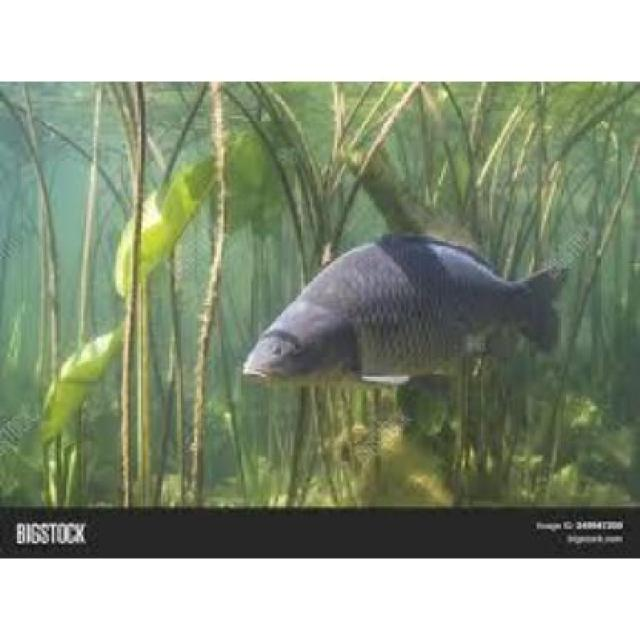ikan-mas: (236, 228, 570, 388)
